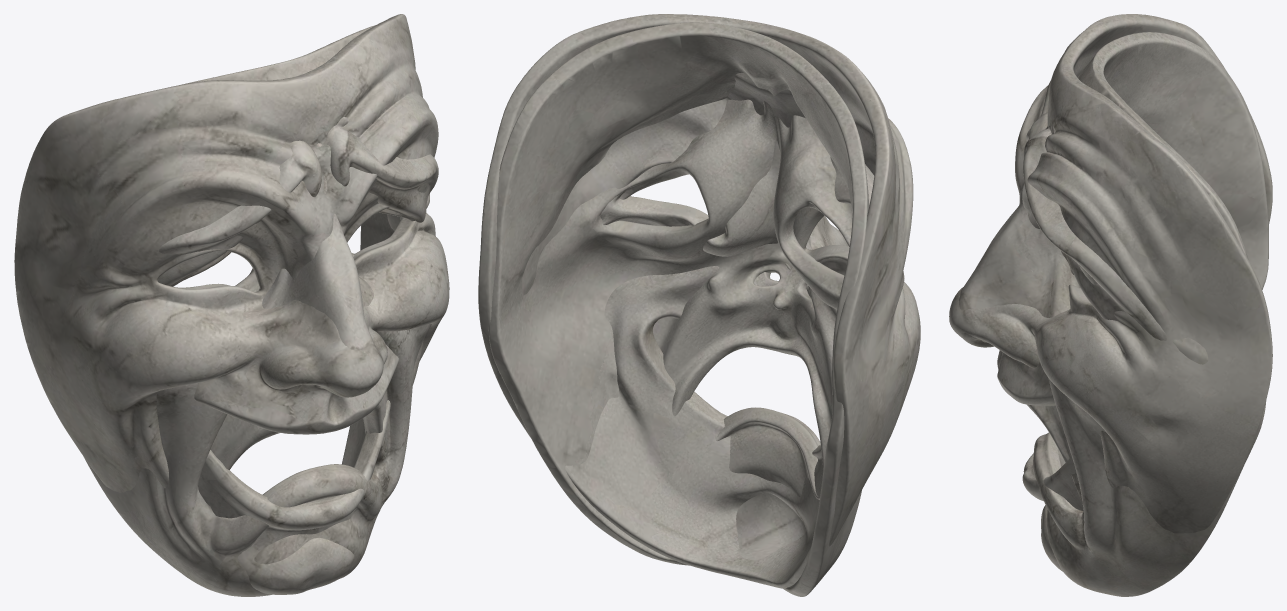
The model's file is masks-lite.glb.
3 views of the same model, side by side, from view 1: azimuth 30°, elevation 25°; view 2: azimuth 150°, elevation 25°; view 3: azimuth 270°, elevation 25° (orthographic). The views are drawn at different scales.
Parts seen in each view (by area): view 1: comedy, tragedy; view 2: tragedy, comedy; view 3: comedy, tragedy.
Part boxes in pixels (left/top/right/bottom): comedy: left=14, top=14, right=449, bottom=594; tragedy: left=83, top=25, right=438, bottom=596; tragedy: left=488, top=22, right=874, bottom=596; comedy: left=478, top=14, right=920, bottom=588; comedy: left=949, top=14, right=1272, bottom=571; tragedy: left=959, top=32, right=1268, bottom=596.
Bounding box in the file's own units: 0.7253 × 1 × 0.5752.
Materials: 1 (1 with a texture image).
